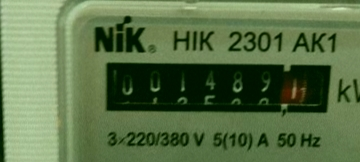0: (146, 69, 162, 94), (119, 73, 134, 98)
1: (175, 67, 189, 97), (287, 73, 299, 103)
4: (202, 68, 218, 94)
8: (228, 68, 245, 95)
9: (257, 70, 272, 95)
screen: (90, 51, 346, 129)
